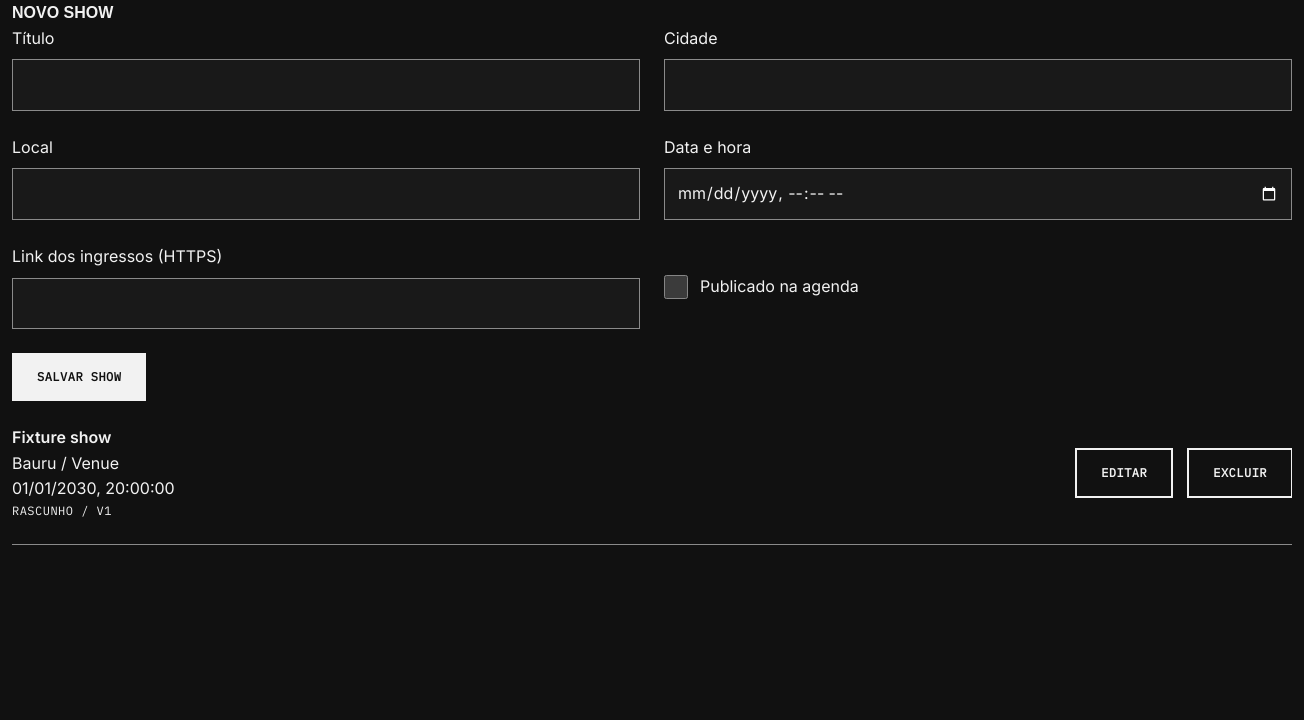
it: displays a draft with ticket metadata
This screenshot has width=1304, height=720.
Expected: the text "Fixture show" is shown, [12,427,111,447]
Click the button "Editar" at (1124, 472), box [1076,448,1172,496]
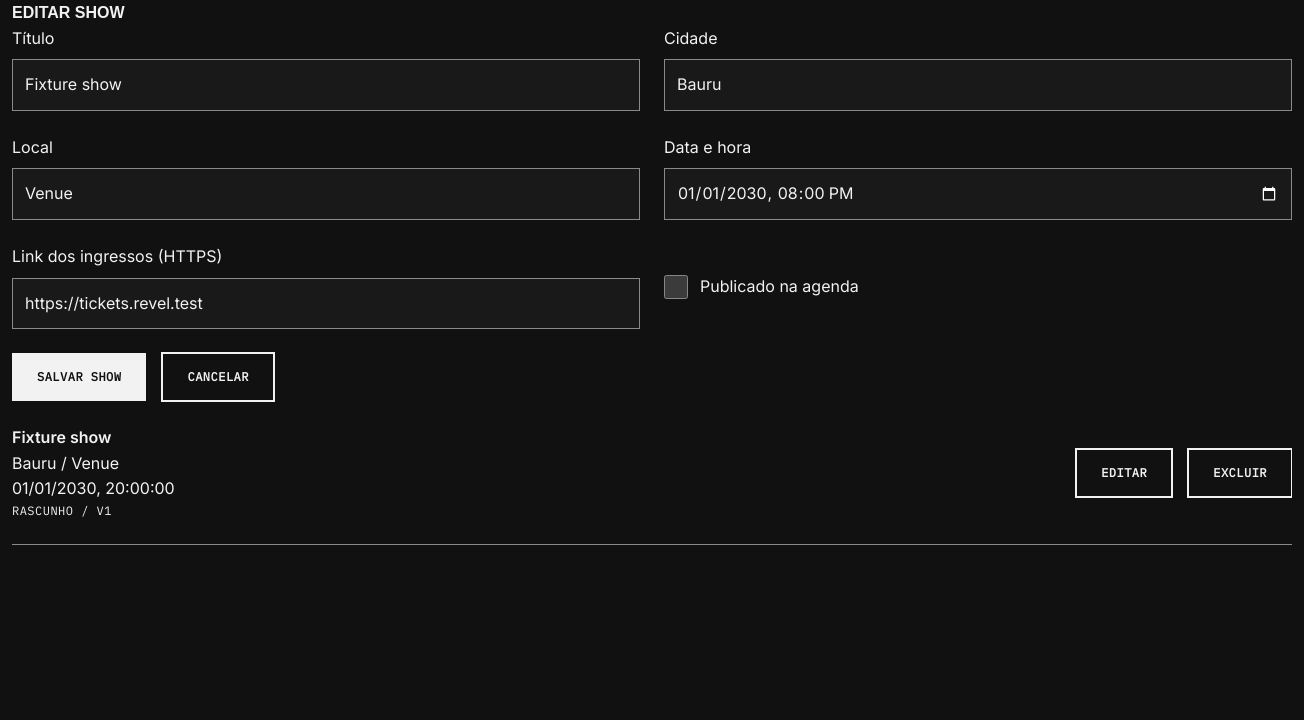
Expected: the checkbox labelled "Publicado na agenda" is not checked, [664,275,688,299]
Expected: the field labelled "Link dos ingressos (HTTPS)" holds "https://tickets.revel.test", [12,278,640,329]
